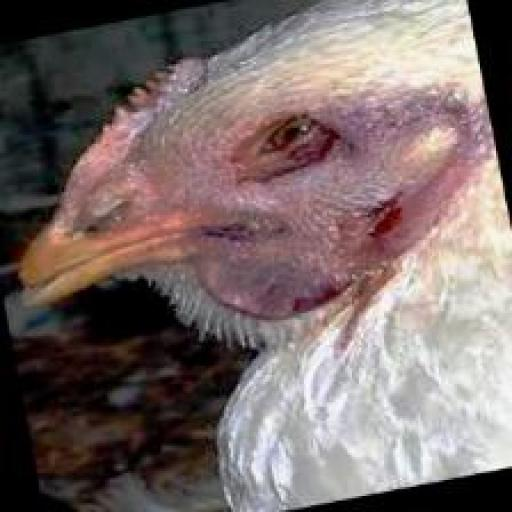disease: (208, 107, 357, 180), (352, 186, 418, 255)
